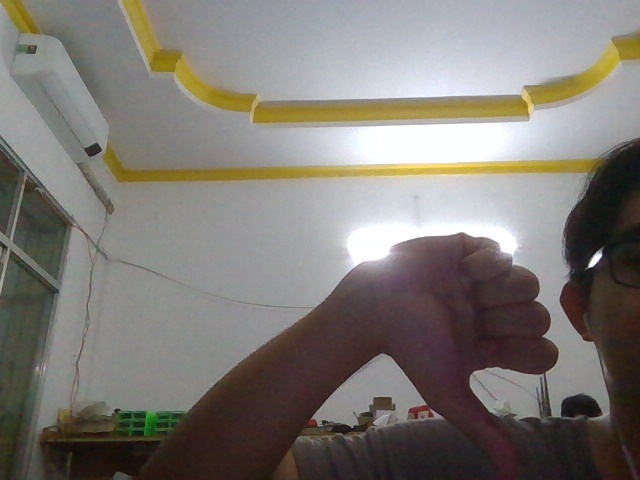thumb_down: (335, 227, 565, 480)
